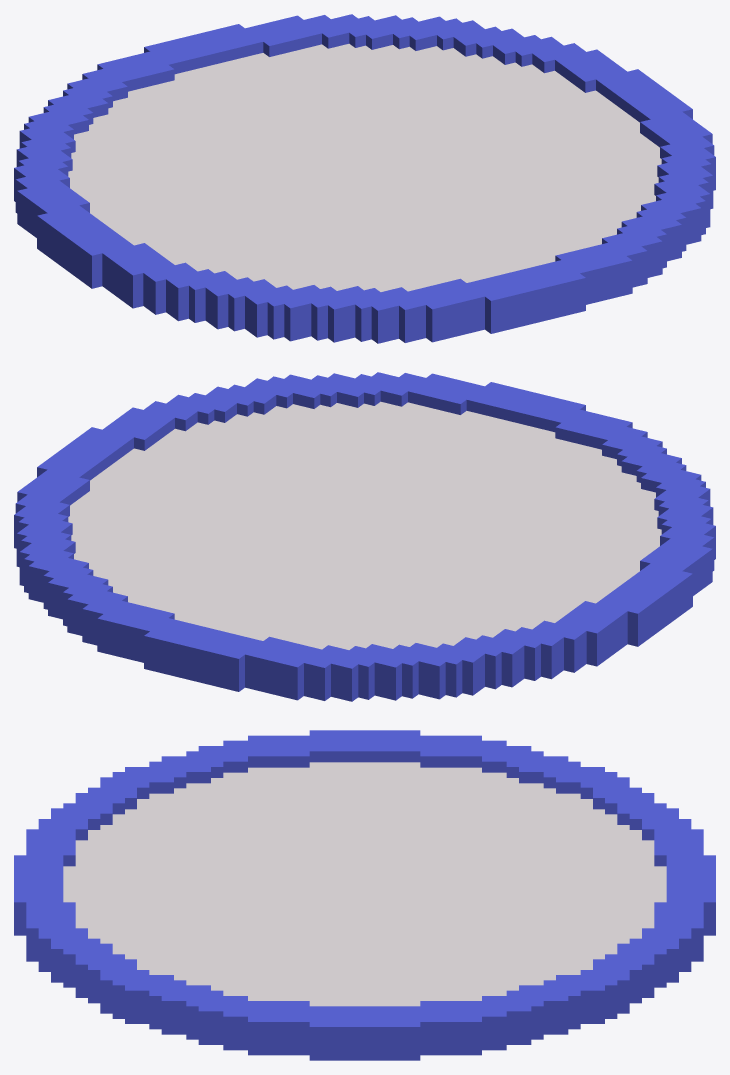
Rendered from HotZoneModel.fbx.
3 renders of one model, top to bottom at view 1: azimuth 30°, elevation 25°; view 2: azimuth 150°, elevation 25°; view 3: azimuth 270°, elevation 25°, orthographic.
Parts seen in each view (by area): view 1: Zona; view 2: Zona; view 3: Zona.
Boxes of the visible parts, <box> form: Zona: <box>14,14,715,343</box>; Zona: <box>14,372,715,701</box>; Zona: <box>14,730,715,1060</box>.
Bounding box in the file's own units: 394 × 394 × 20.73.
